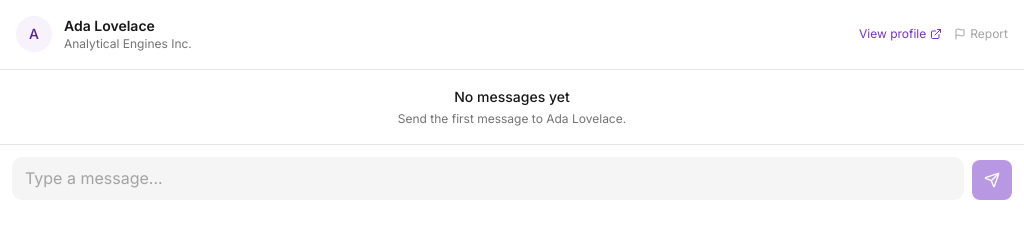
it: ConversationThread send/retry › resends the same content on Retry and clears the failed state on success
In the text box labelled "Type a message...": (488, 178) [12,157,964,200], type "Hello there"
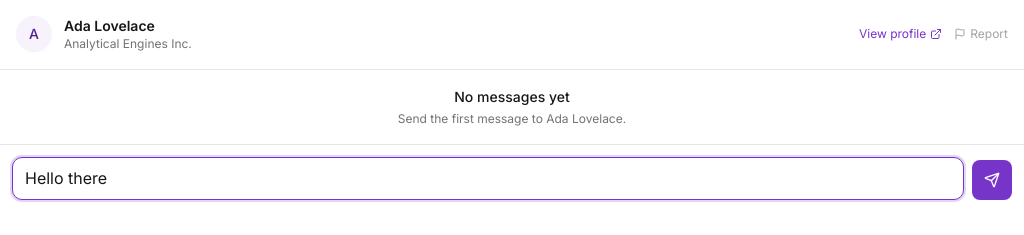
Click the button named "send message": (992, 180) [972,160,1012,200]
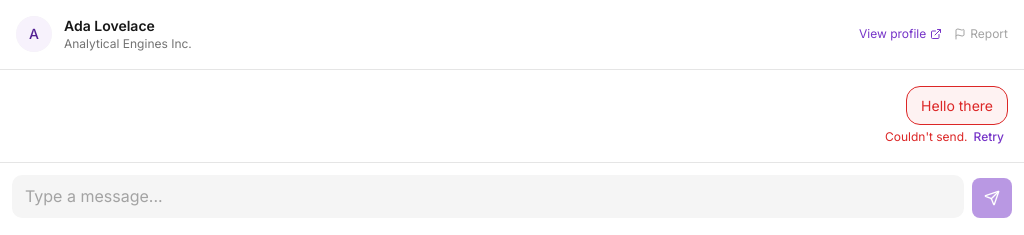
Check: the button "Retry" is shown
Click the button "Retry": (989, 137) [974,129,1004,146]
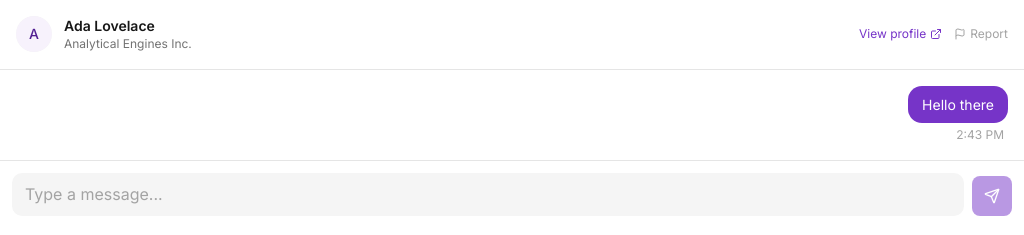
Check: the text "Hello there" is shown, box [908,86,1008,123]
Check: the text "Couldn't send." is gone
